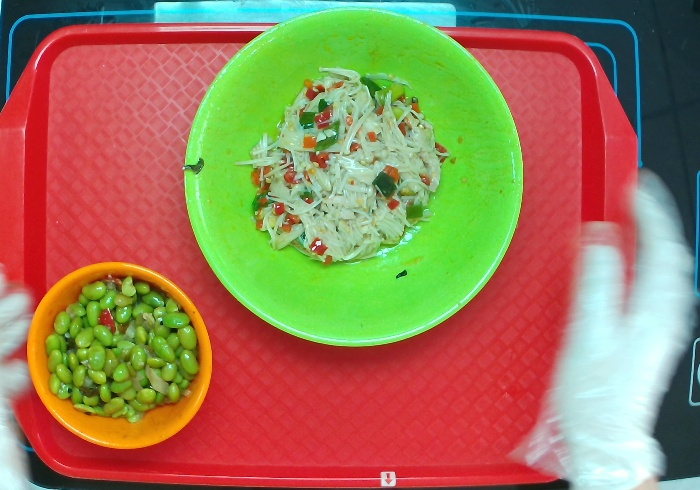YKMZ-Ju_Se_Yuan_Wan: (25, 258, 213, 454)
YKMZ-Lv_Se_Tang_Wan: (183, 3, 524, 348)
